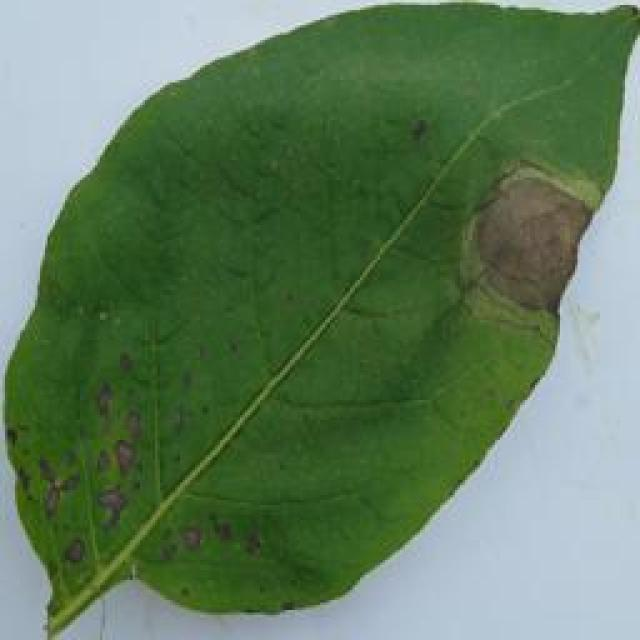Potato_Late_Blight: (9, 6, 629, 629)
